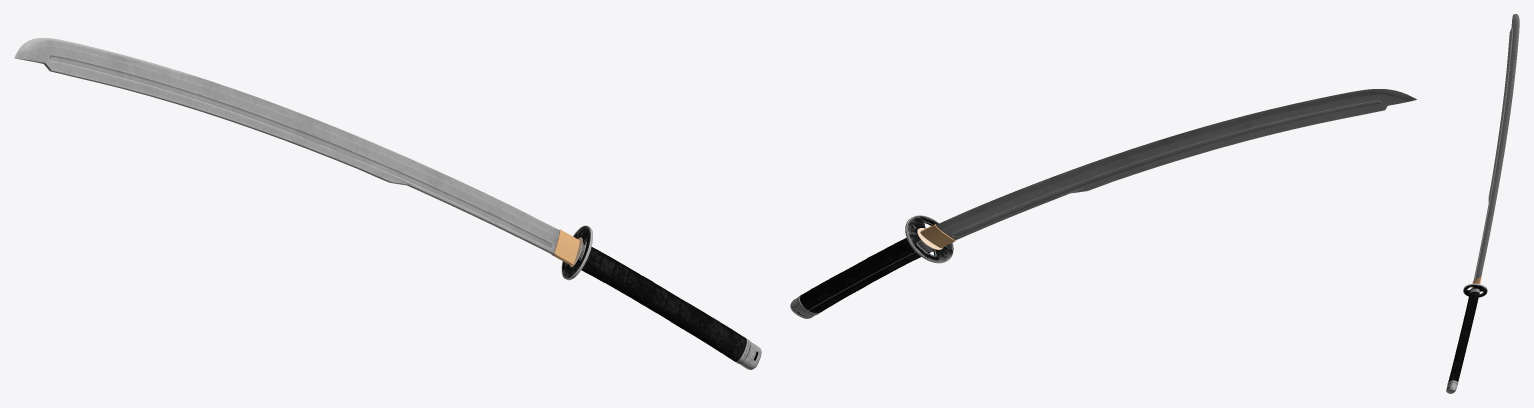
The model's file is katana.glb.
The picture shows the model from 3 angles, left to right: view 1: azimuth 30°, elevation 25°; view 2: azimuth 150°, elevation 25°; view 3: azimuth 270°, elevation 25°; orthographic projection. The views are drawn at different scales.
Visible parts, largest first — view 1: SM_GothKatana_Blade_1; view 2: SM_GothKatana_Blade_1; view 3: SM_GothKatana_Blade_1.
Boxes of the visible parts, x1=… form: SM_GothKatana_Blade_1: x1=14, y1=38, x2=761, y2=369; SM_GothKatana_Blade_1: x1=790, y1=89, x2=1416, y2=318; SM_GothKatana_Blade_1: x1=1446, y1=14, x2=1519, y2=393.
Bounding box in the file's own units: 1.55 × 0.9467 × 0.2873.
1 material, 1 textured.
